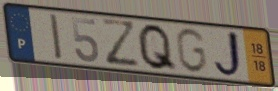5: (69, 16, 101, 64)
G: (174, 26, 209, 75)
I: (48, 12, 65, 63)
J: (211, 28, 246, 80)
Q: (136, 22, 180, 74)
Z: (99, 17, 143, 69)
